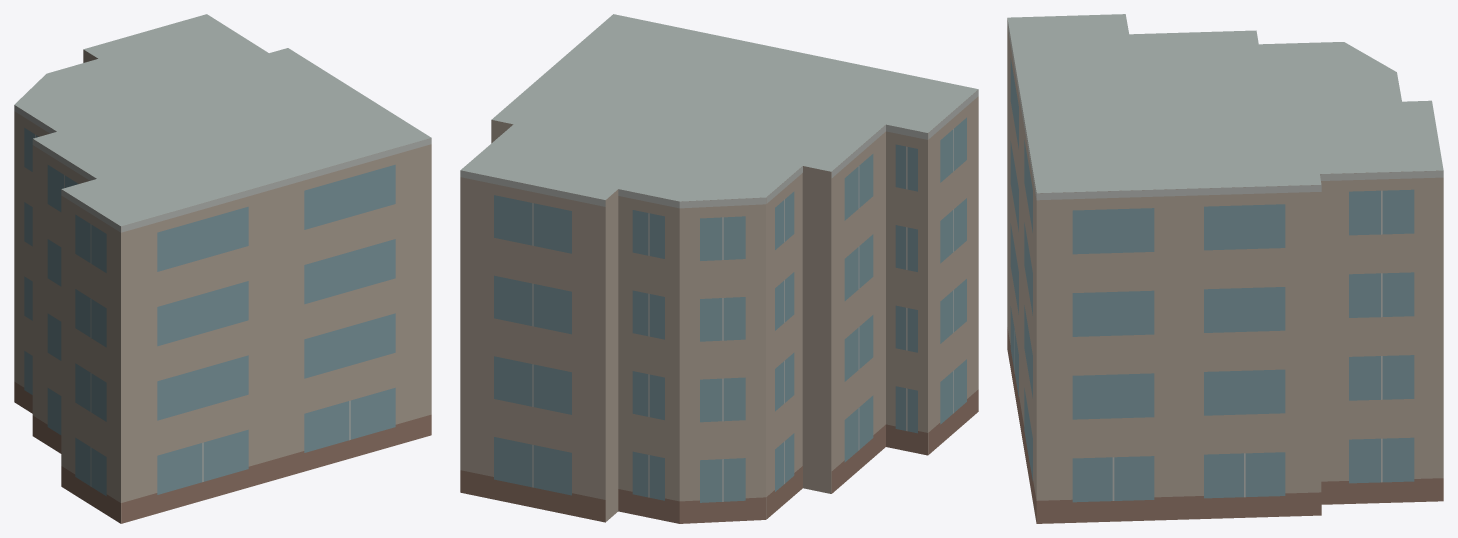
File: survey-upis-32667254.glb
3 views of the same model, side by side, from view 1: azimuth 30°, elevation 25°; view 2: azimuth 150°, elevation 25°; view 3: azimuth 270°, elevation 25° (orthographic). The views are drawn at different scales.
Visible parts, largest first — view 1: survey-upis-32667254.tmp; view 2: survey-upis-32667254.tmp; view 3: survey-upis-32667254.tmp.
Part boxes in pixels (x1,y1,x2,y2): survey-upis-32667254.tmp: (14, 14, 431, 523); survey-upis-32667254.tmp: (460, 14, 978, 523); survey-upis-32667254.tmp: (1007, 14, 1443, 523).
Bounding box in the file's own units: 13.38 × 11.5 × 13.76.
